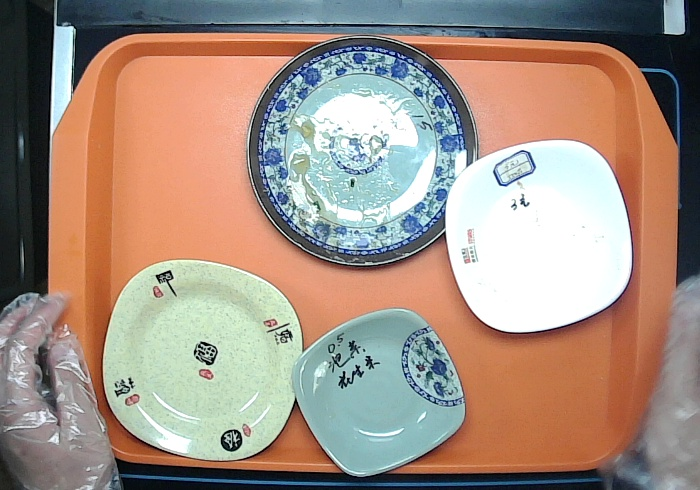NLDX-Bai_Se_Xiao_Fang_Die: (442, 137, 640, 343)
NLDX-Fu_Zi_Fang_Die: (99, 262, 296, 462)
NLDX-Qing_Hua_Xiao_Fang_Die: (290, 306, 463, 490)
NLDX-Qing_Hua_Yuan_Die: (243, 38, 477, 272)
